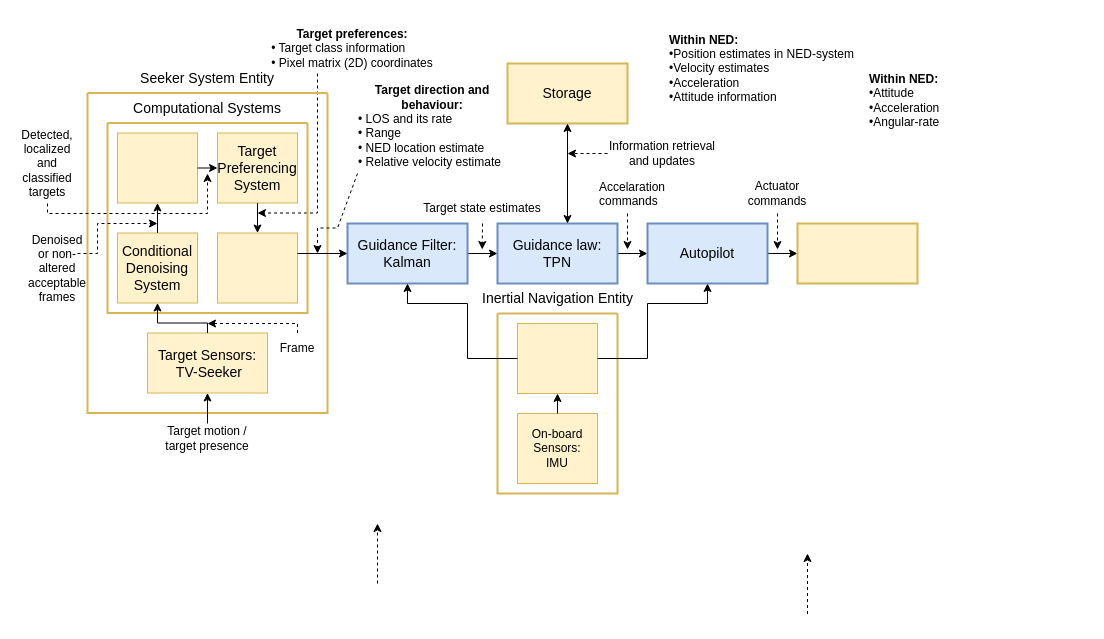
Some shapes in this 1104 by 639 pixel diagram are drawn without their labels. The shapes that lost their labels are listed below. From the top down, each one's centre as x and y in pixels, then its label:
the point at 157,167: Object Detecting Neural Network
the point at 257,267: Range and Location Estimator
the point at 857,253: Control surfaces / propulsion
the point at 557,358: System Transfor- mations
